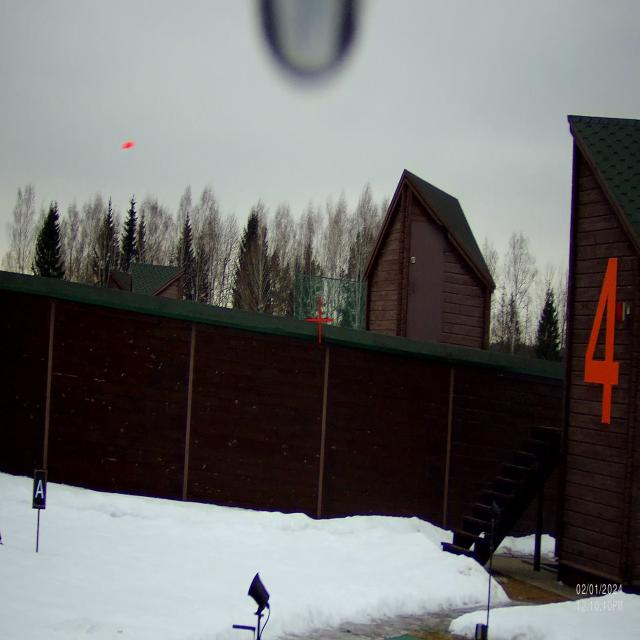entire: (120, 136, 140, 154)
